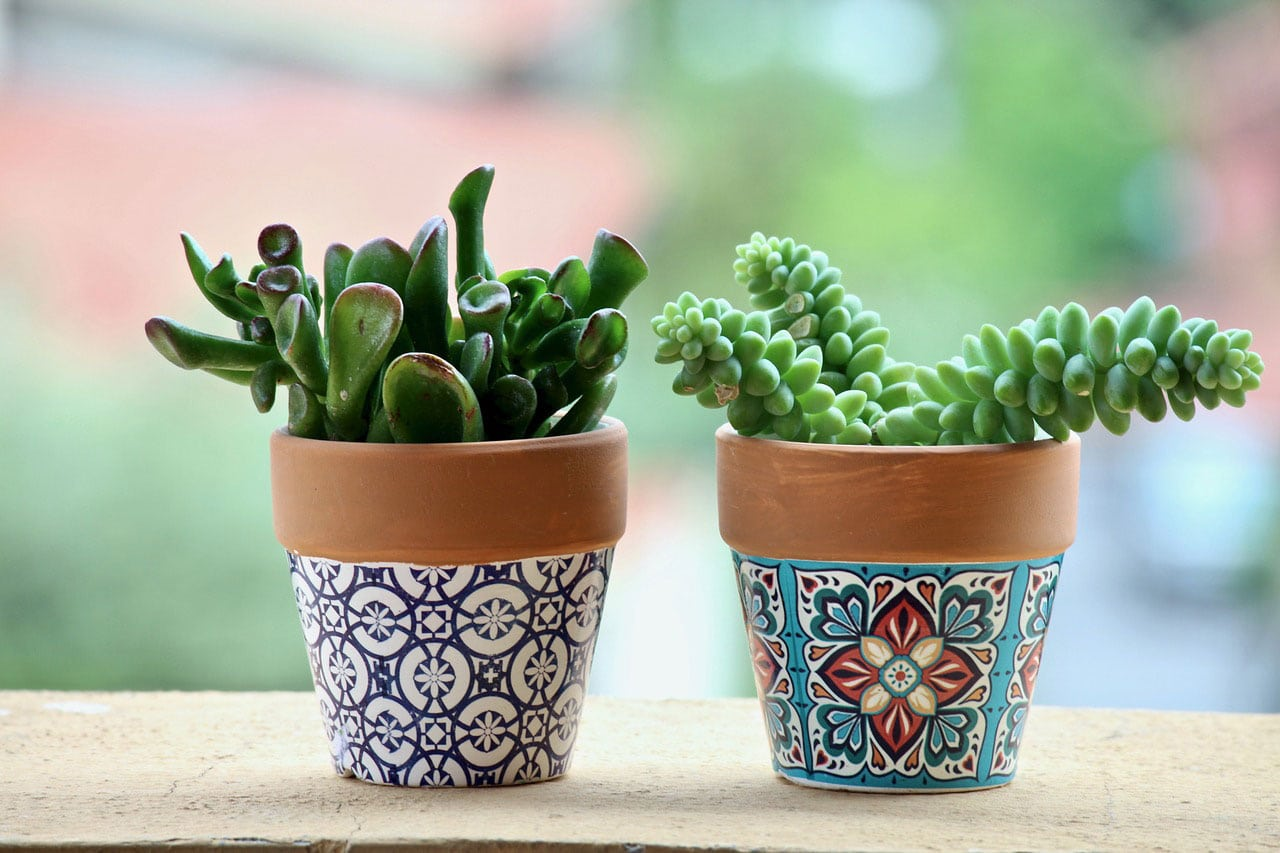plant: (651, 230, 1268, 803), (143, 167, 643, 785)
